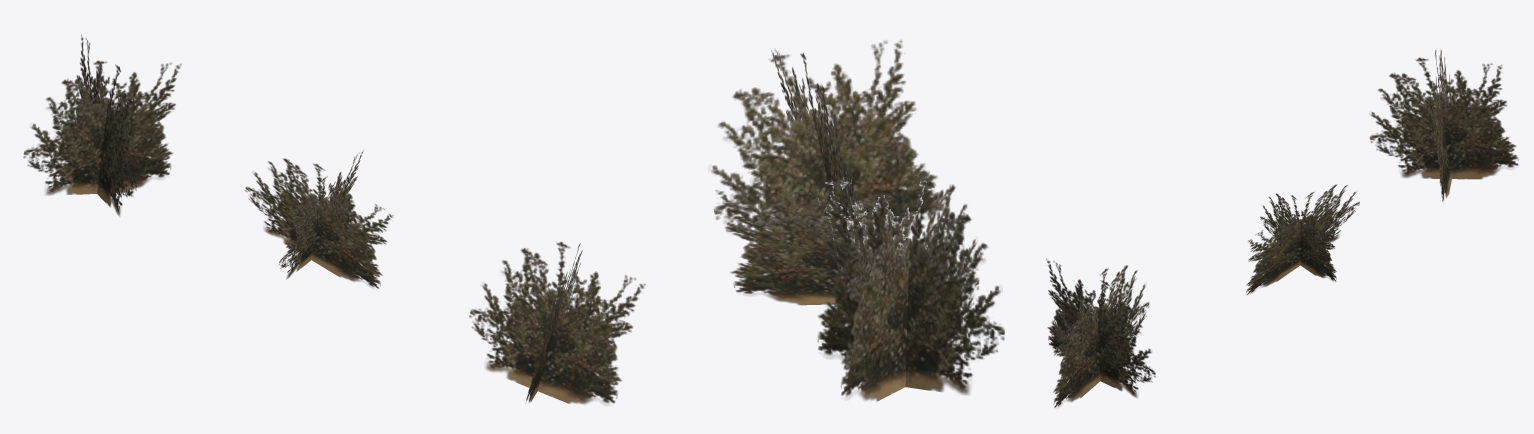
Rendered from 0606worlddeserttransparent_worlddeserttransparentmaterial_0_lev.glb.
3 renders of one model, left to right at view 1: azimuth 30°, elevation 25°; view 2: azimuth 150°, elevation 25°; view 3: azimuth 270°, elevation 25°, orthographic. The views are drawn at different scales.
Visible parts, largest first — view 1: 0606worlddeserttransparent_worlddeserttransparentmaterial_0_; view 2: 0606worlddeserttransparent_worlddeserttransparentmaterial_0_; view 3: 0606worlddeserttransparent_worlddeserttransparentmaterial_0_.
Part boxes in pixels (x1,y1,x2,y2): 0606worlddeserttransparent_worlddeserttransparentmaterial_0_: (23,34,645,405); 0606worlddeserttransparent_worlddeserttransparentmaterial_0_: (710,40,1004,401); 0606worlddeserttransparent_worlddeserttransparentmaterial_0_: (1046,50,1518,407).
Size of the model in its own units: 1.93 by 1.29 by 2.21.
Materials: 1 (1 with a texture image).
